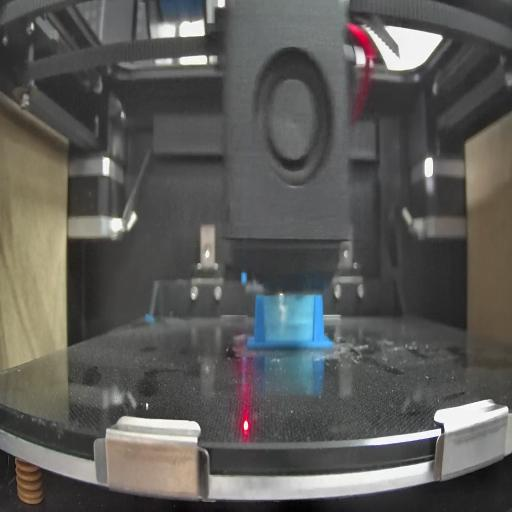stringing: (266, 294, 314, 341)
